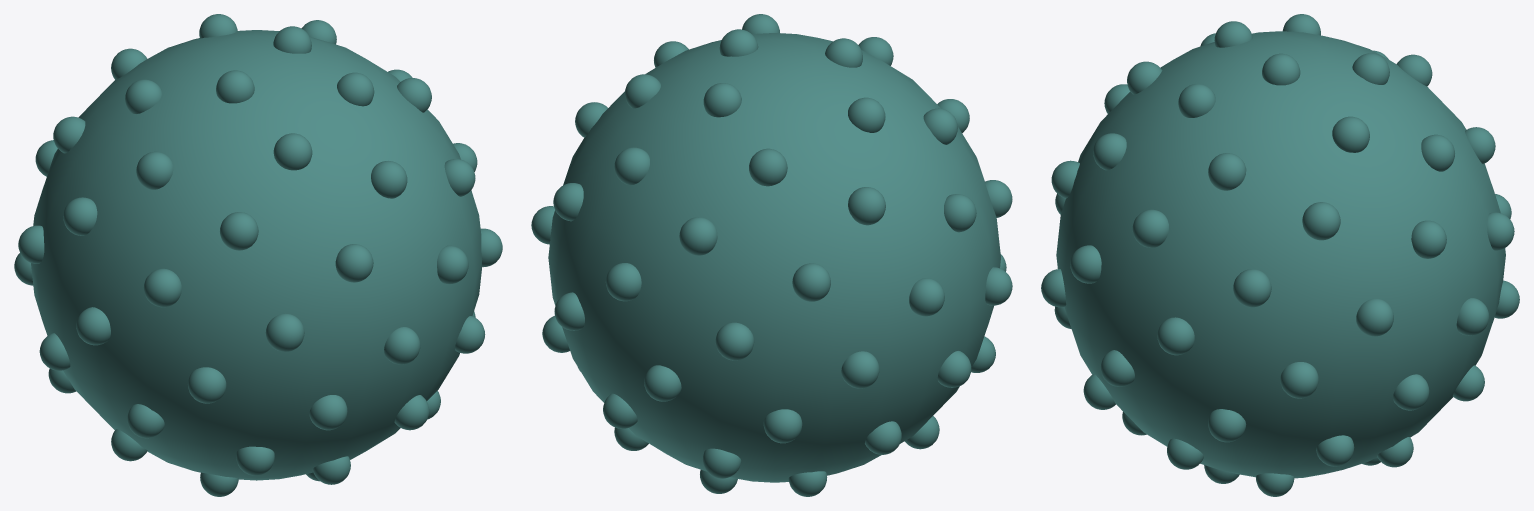
The model's file is wp-balle-sensorielle.glb.
3 renders of one model, left to right at view 1: azimuth 30°, elevation 25°; view 2: azimuth 150°, elevation 25°; view 3: azimuth 270°, elevation 25°, orthographic.
Visible parts, largest first — view 1: wp-balle-sensorielle; view 2: wp-balle-sensorielle; view 3: wp-balle-sensorielle.
Boxes of the visible parts, left/top/right/bottom form: wp-balle-sensorielle: left=14, top=14, right=502, bottom=496; wp-balle-sensorielle: left=531, top=14, right=1012, bottom=496; wp-balle-sensorielle: left=1041, top=14, right=1519, bottom=496.
Bounding box in the file's own units: 0.1 × 0.1 × 0.1.
